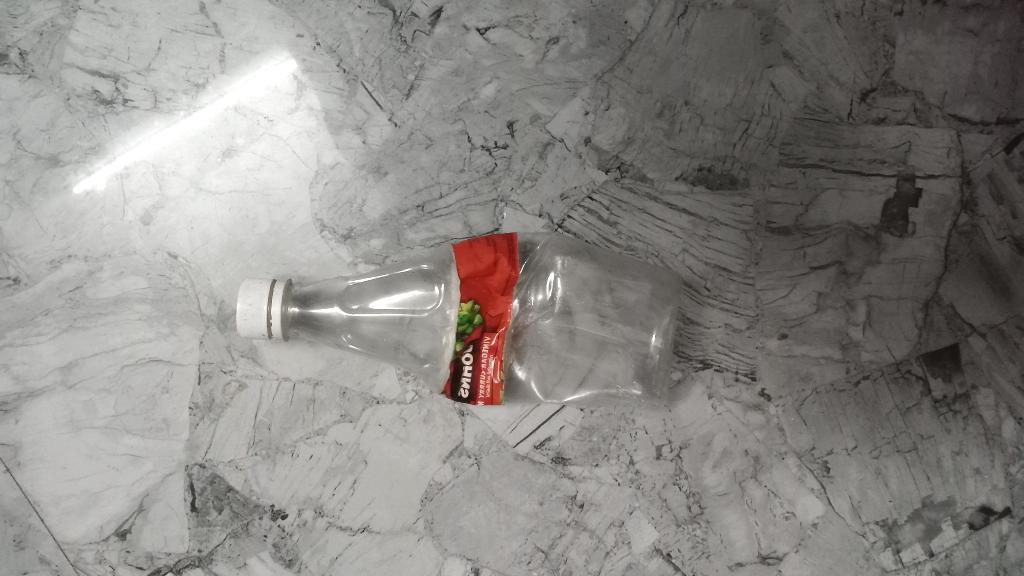garbage: (225, 207, 711, 412)
